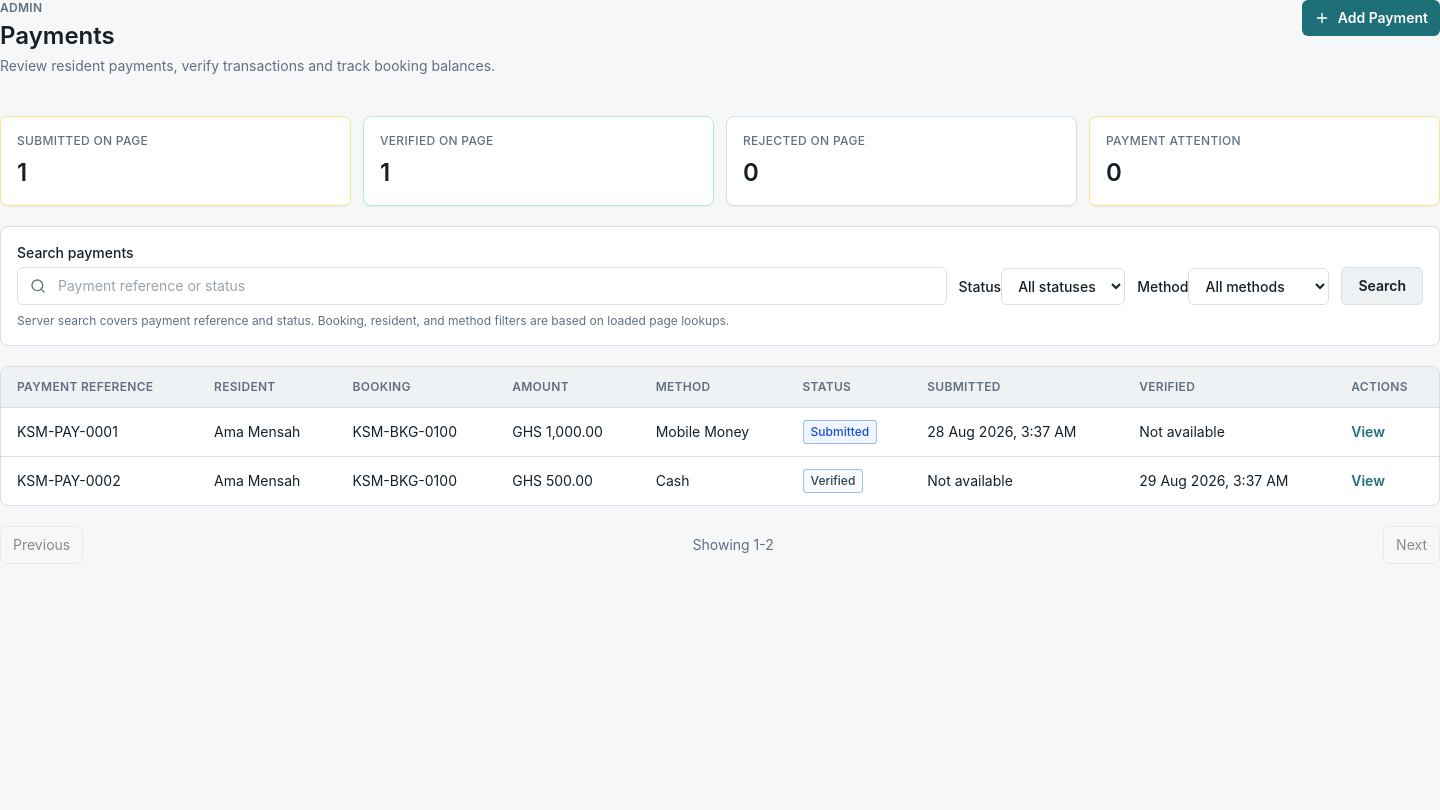
Test case: PaymentsPage › surfaces overpayment rejection from backend
The width and height of the screenshot is (1440, 810).
Step 1. Click the button "Add Payment" → (1371, 18), box top-left (1302, 0), bottom-right (1439, 36)
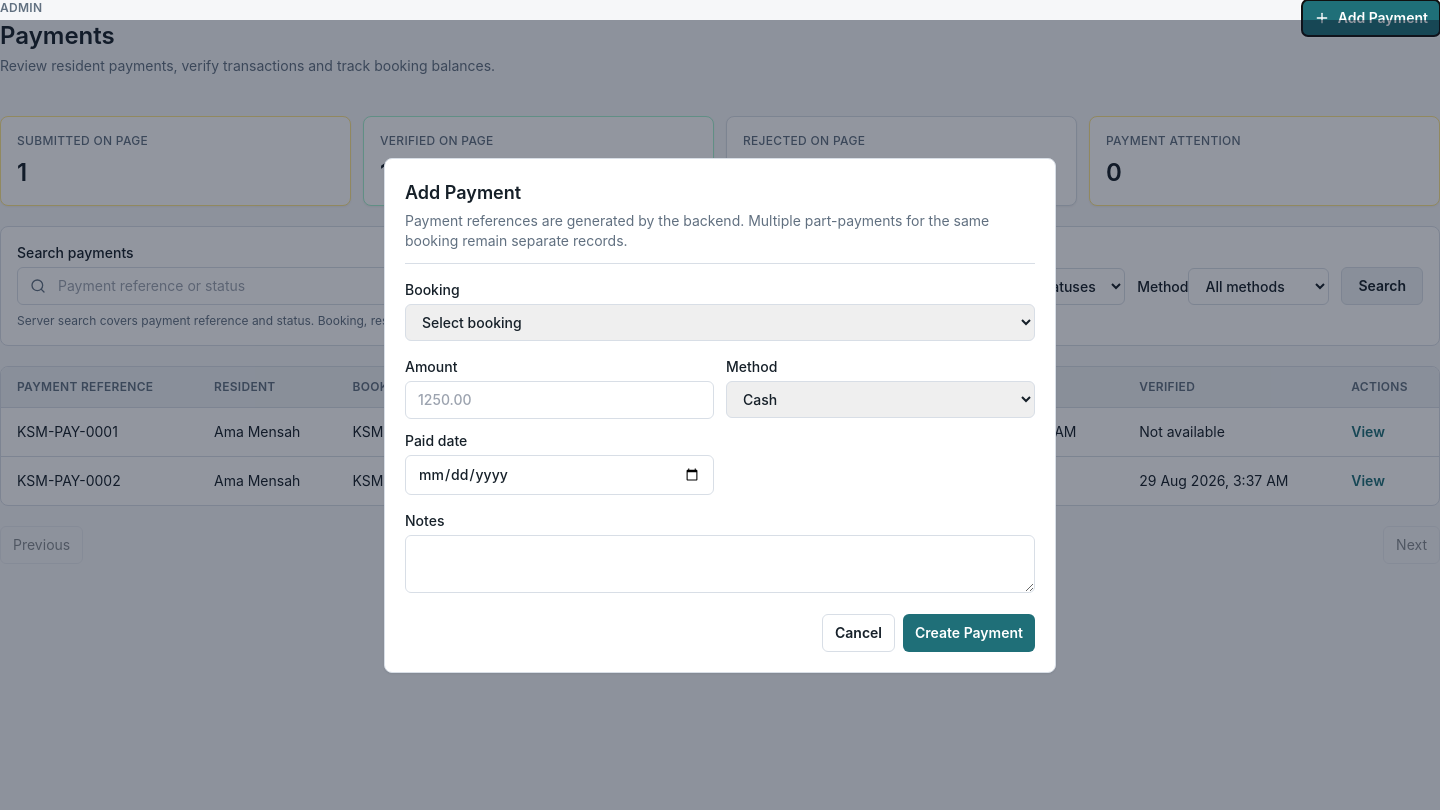
Step 2. Select "KSM-BKG-0100 - Ama Mensah - GHS 2,500.00" in the dropdown named "Payment booking" → (720, 322), box top-left (405, 304), bottom-right (1035, 340)
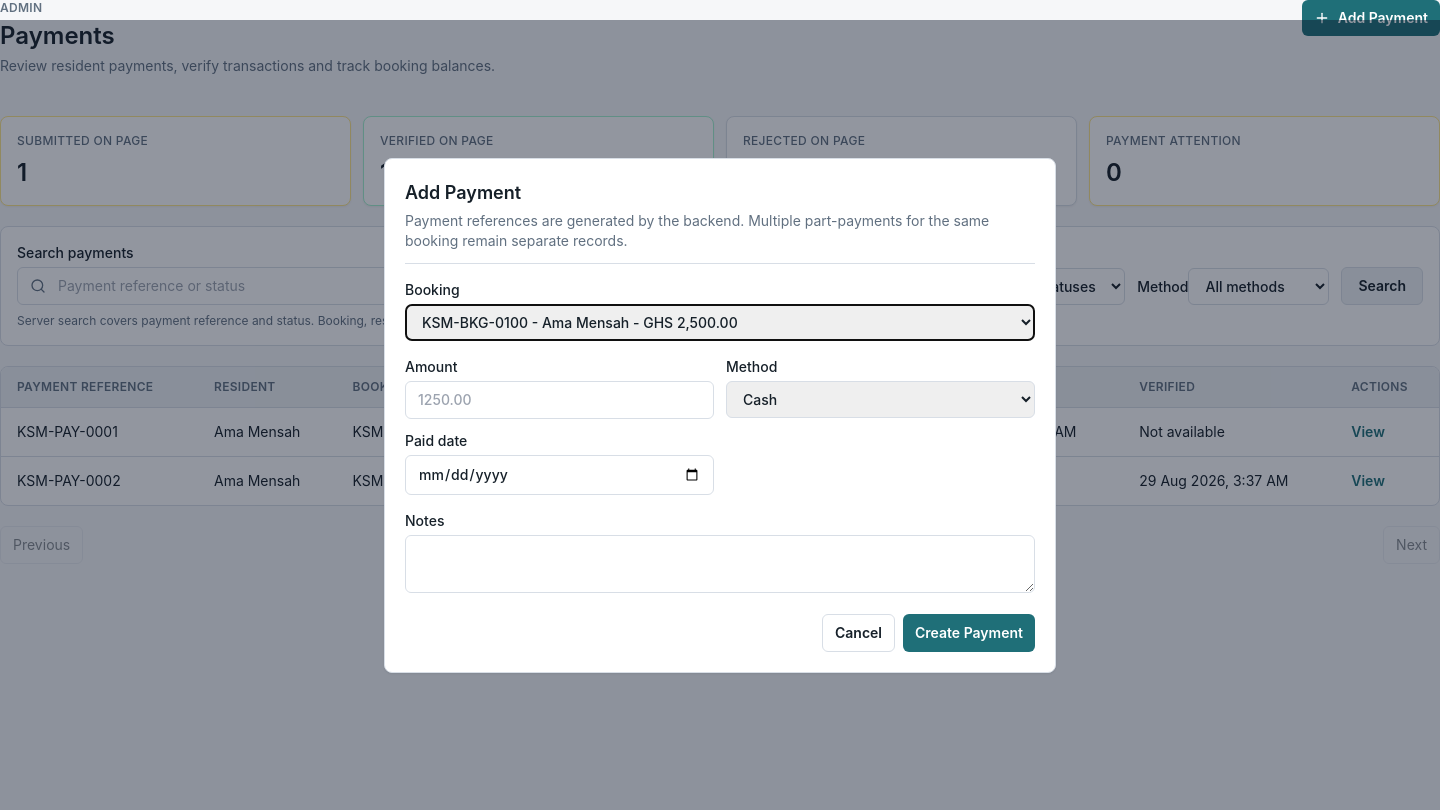
Step 3. Type "3000.00" into the field named "Payment amount" → (560, 400), box top-left (405, 380), bottom-right (714, 418)
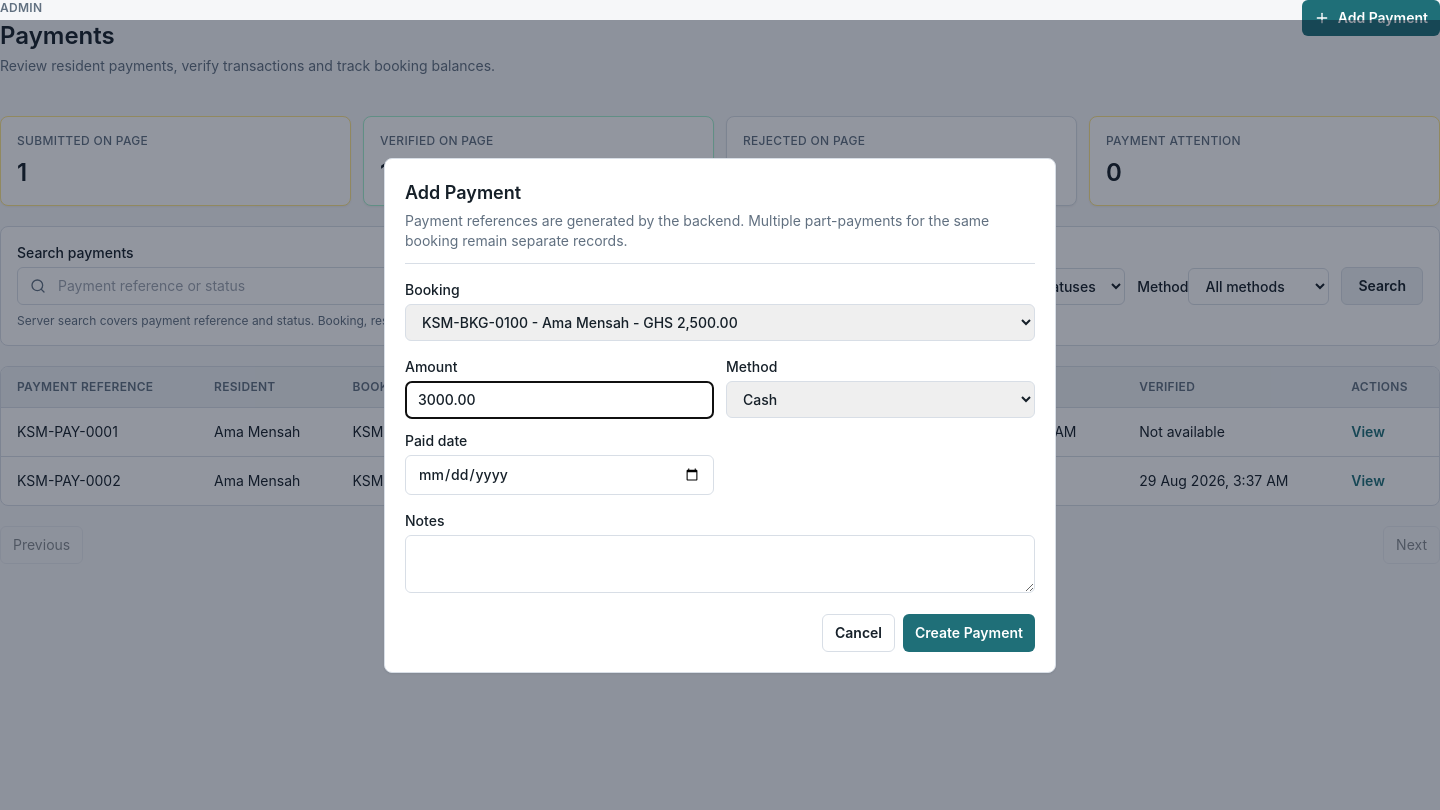
Step 4. Click the button "Create Payment" → (969, 632), box top-left (903, 614), bottom-right (1035, 652)
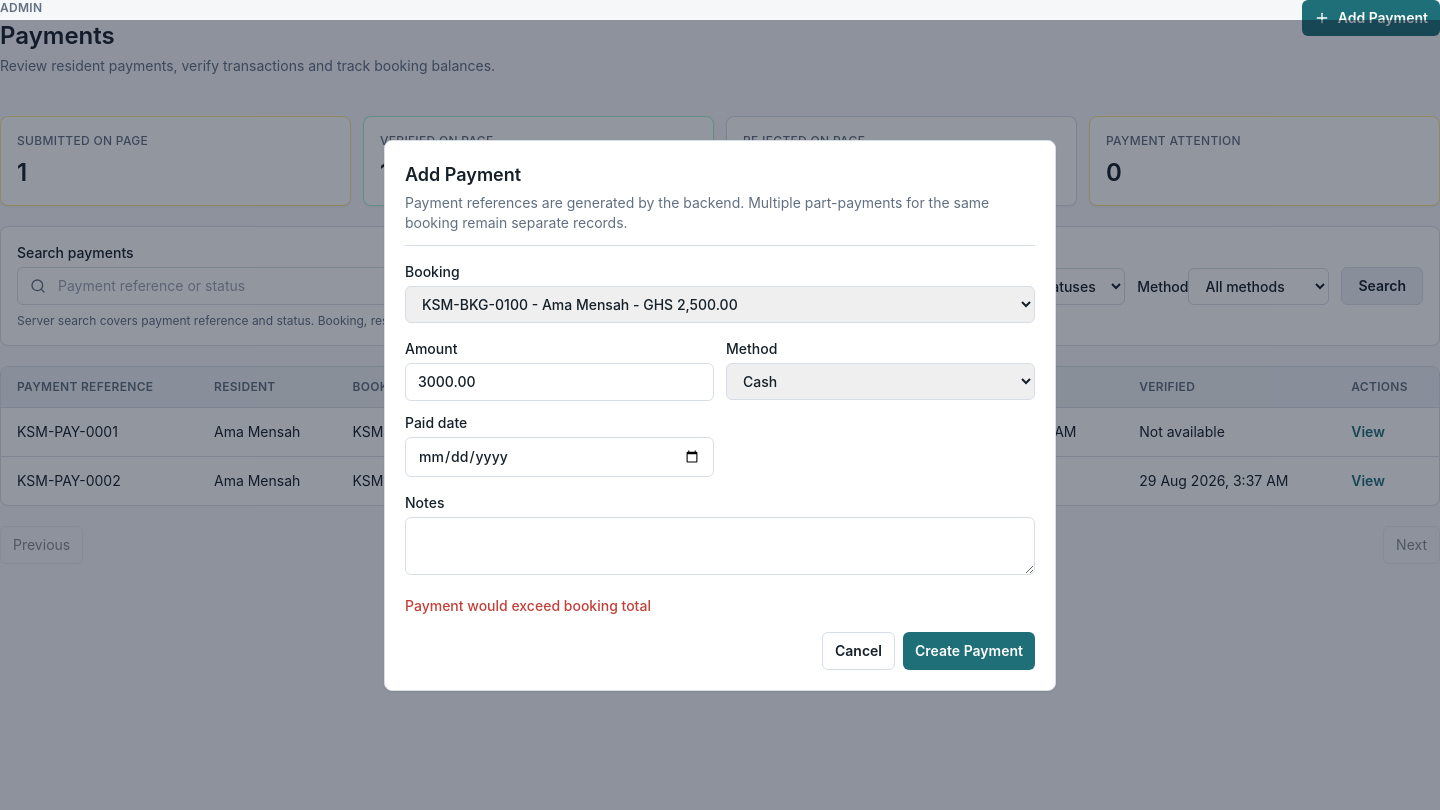
Now the message reads "Payment would exceed booking total", box top-left (405, 596), bottom-right (651, 614)
